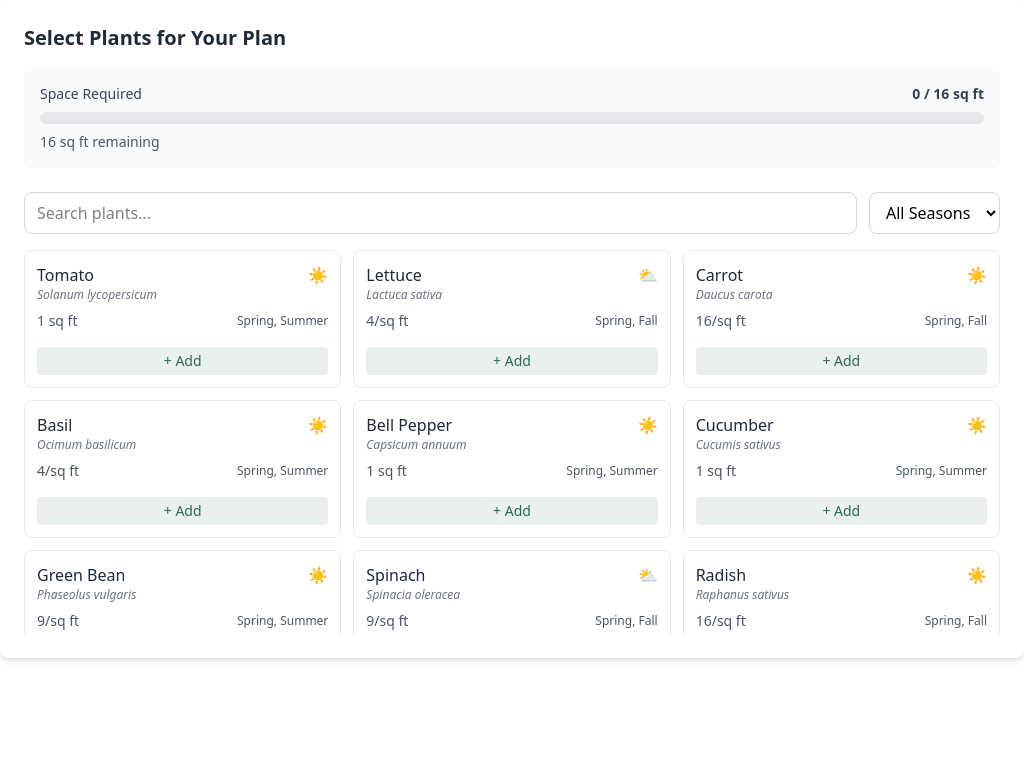
it: PlantSelector › search and filtering › should filter plants by search term
Type "tom" into the field with placeholder "Search plants...".
click(440, 213); type("tom")  # box [24,192,857,234]
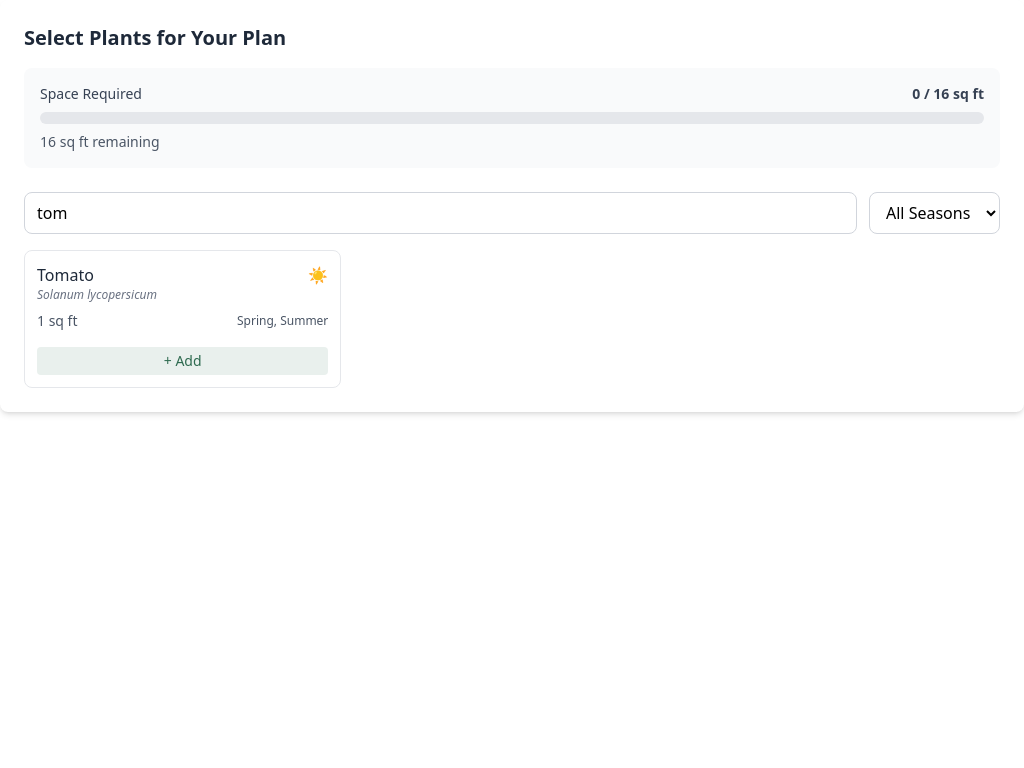
Expected: the heading "Tomato" is shown, [37,264,94,286]
Result: the heading "Lettuce" is gone
